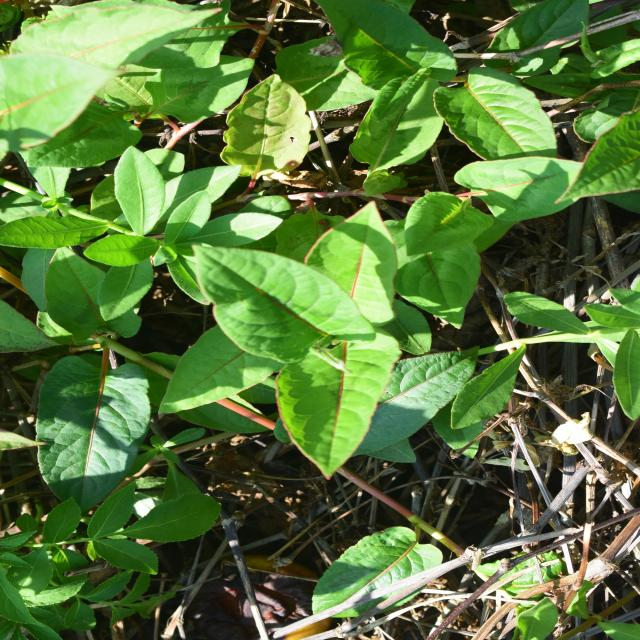Chinese_knotweed: (194, 165, 430, 445)
